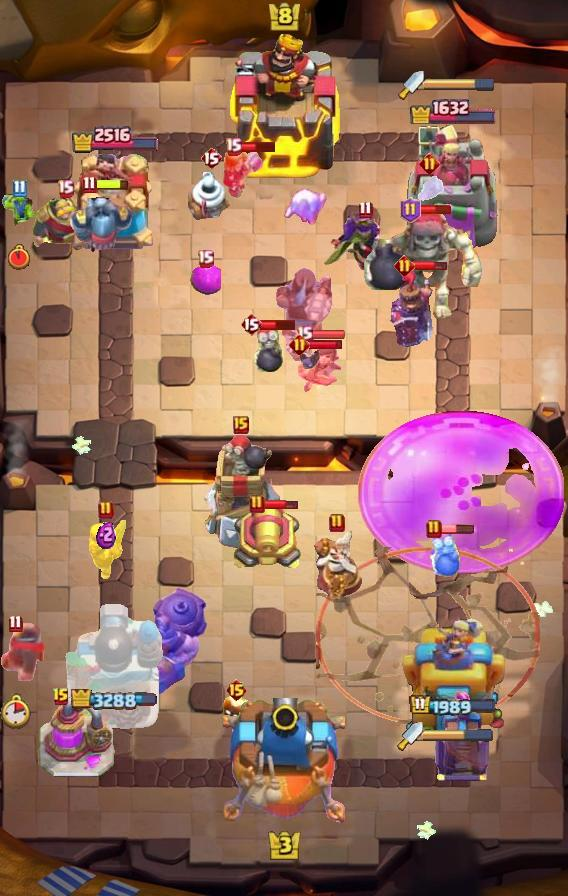arrows: (86, 520, 126, 580)
bar: (406, 122, 500, 256), (402, 615, 507, 731)
barbarian: (414, 170, 444, 202)
barbarian-barrel: (298, 342, 322, 372)
barbarian-hut: (322, 208, 408, 284)
bomber: (221, 694, 251, 726)
electro-giant: (360, 208, 484, 320)
electro-spirit: (96, 519, 116, 548)
elixir: (1, 693, 31, 729), (8, 244, 30, 270)
elixir-collector: (307, 530, 367, 604)
elixir-golem-big: (389, 266, 443, 348)
elixir-golem-small: (68, 186, 134, 254)
emote: (412, 259, 448, 273), (263, 497, 299, 511), (239, 139, 276, 152), (260, 317, 297, 330), (94, 177, 130, 190), (439, 523, 475, 535), (418, 204, 452, 216), (308, 339, 345, 350), (310, 329, 346, 340)
firecracker: (32, 196, 98, 252), (1, 623, 48, 681)
goblin-drill: (188, 172, 234, 228)
guard: (316, 546, 540, 725)
hog-rider: (222, 148, 264, 198)
ice-golem: (251, 322, 285, 378), (428, 528, 462, 578)
ice-spirit-evolution-symbol: (432, 691, 492, 783)
inferno-dragon: (275, 265, 335, 361)
king-tower: (226, 33, 342, 181), (223, 698, 345, 826)
king-tower-bar: (424, 77, 496, 91), (423, 729, 493, 743)
knight-evolution: (358, 410, 564, 574)
miner: (189, 265, 221, 295)
mirror: (280, 187, 330, 225)
pekka: (38, 697, 116, 779)
queen-tower: (66, 154, 162, 256)
royal-recruit: (232, 500, 304, 574)
selected: (69, 124, 158, 154), (410, 96, 499, 124), (409, 694, 497, 718), (71, 688, 157, 712)
skeleton-dragon: (293, 338, 343, 394)
text: (399, 197, 421, 223), (225, 678, 248, 702), (200, 146, 222, 170), (240, 312, 262, 336), (394, 255, 415, 277), (289, 334, 311, 355), (419, 154, 440, 175), (52, 687, 70, 707), (225, 136, 243, 155), (57, 178, 75, 197), (197, 248, 215, 267), (249, 494, 265, 514), (98, 500, 114, 520), (329, 513, 345, 533), (426, 519, 442, 539), (295, 325, 312, 343), (233, 416, 249, 434), (12, 178, 27, 197), (83, 175, 98, 193), (9, 615, 23, 634), (359, 201, 373, 219)
tower-bar: (64, 601, 164, 731)
wizard: (128, 586, 210, 700)
zap: (1, 189, 37, 229)
zappy: (196, 435, 287, 551)
